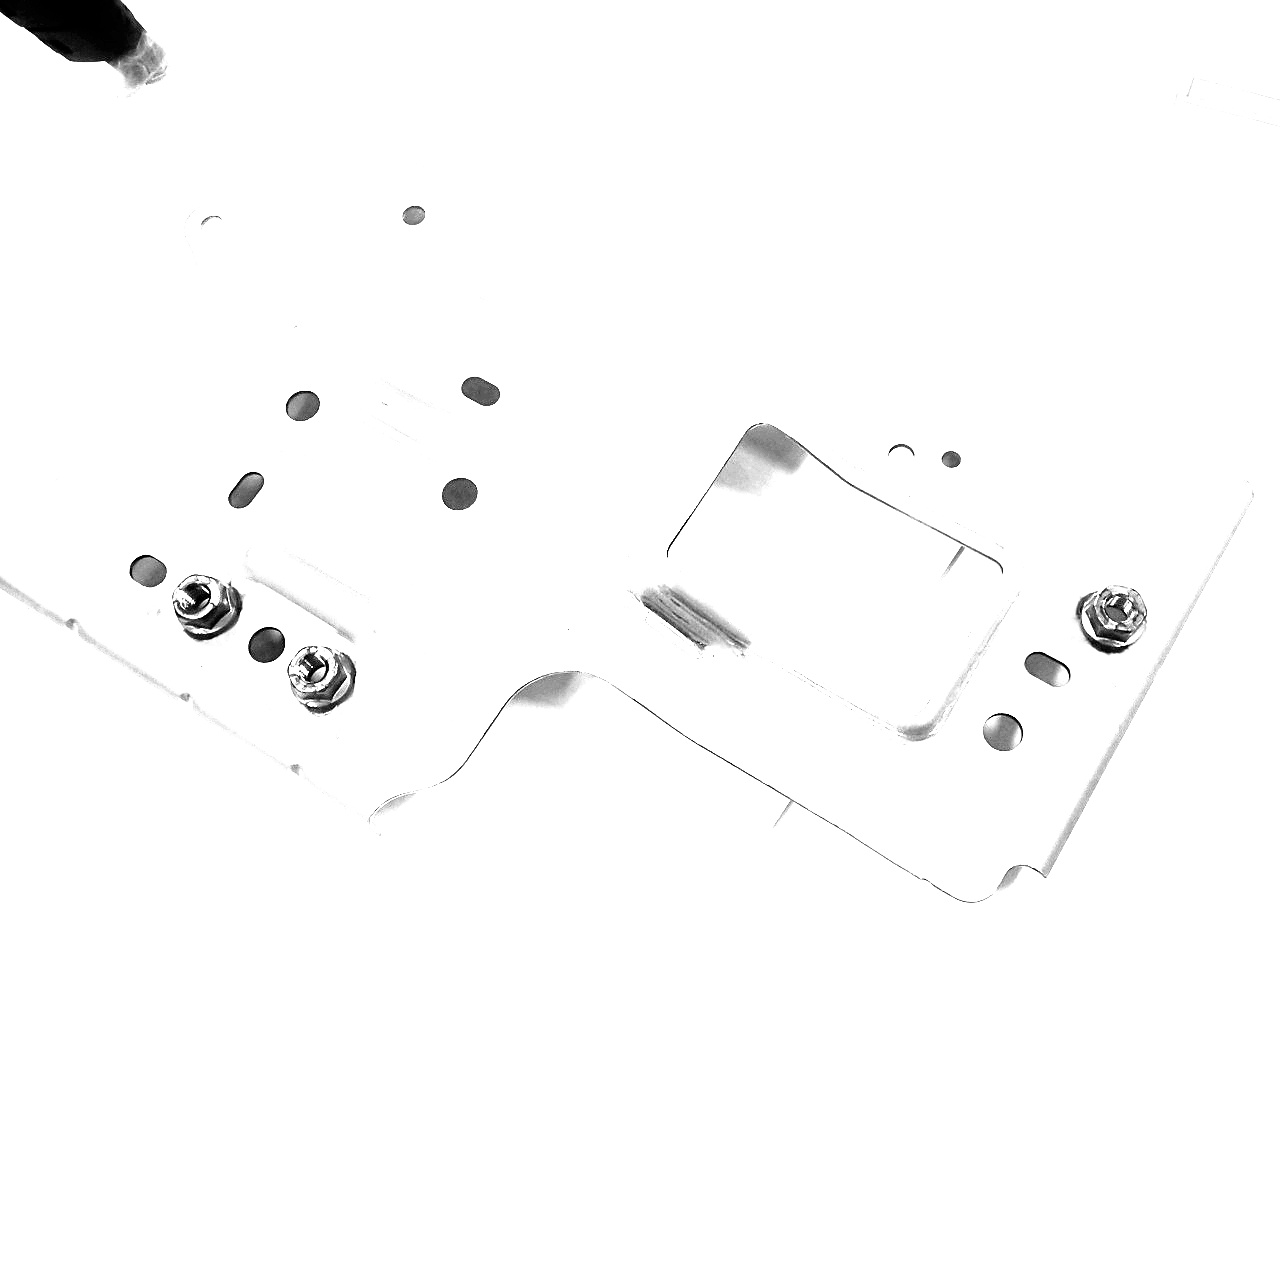dog: (168, 566, 245, 646), (282, 638, 360, 716), (1073, 583, 1152, 658)
